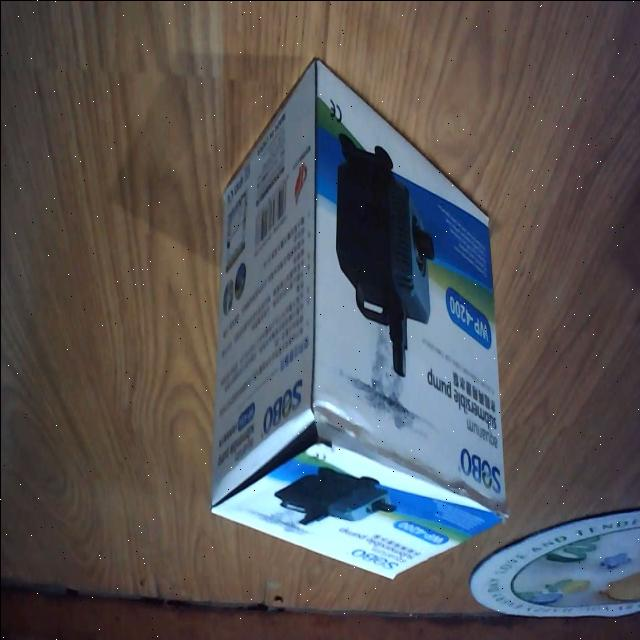SOBO_WP_4200: (203, 52, 512, 594)
